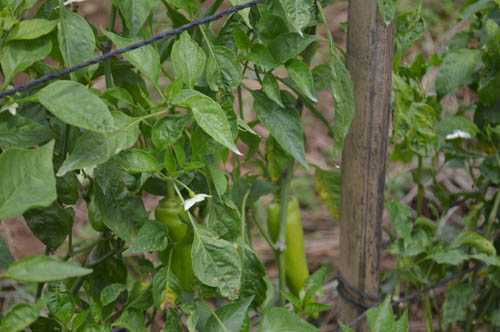ChiliPepper: (264, 195, 314, 313), (156, 200, 197, 287)
